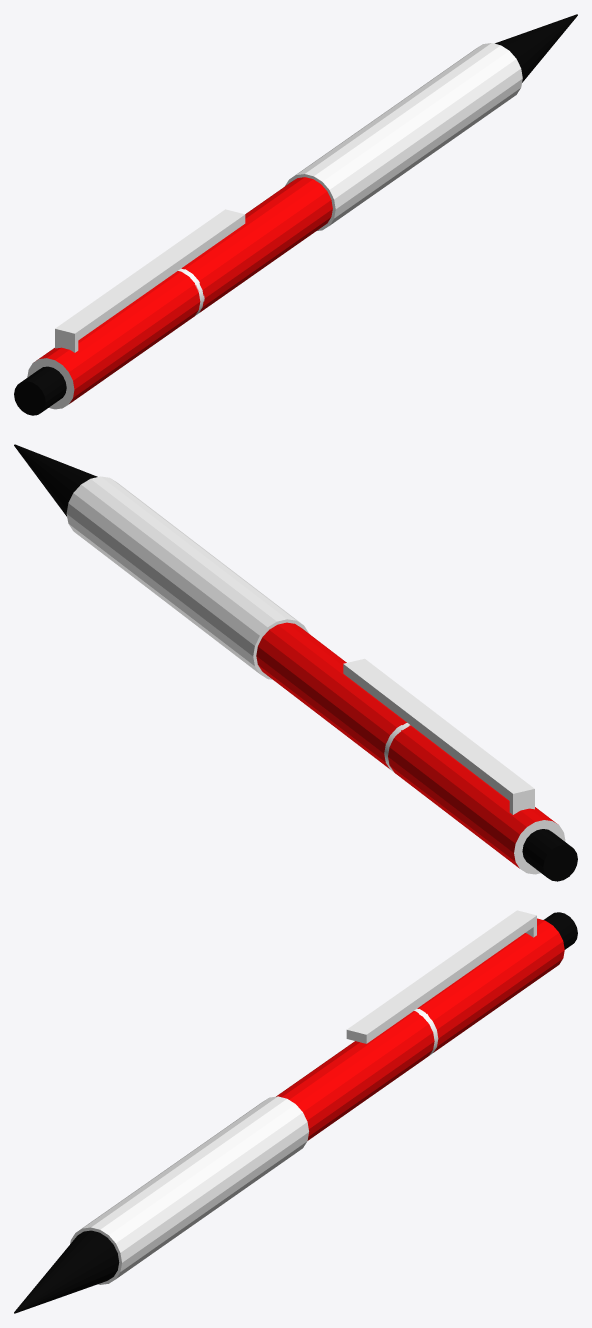
Rendered from cef882a8-9e5c-48d4-ae7f-957910e63c54.glb.
The picture shows the model from 3 angles, top to bottom: view 1: azimuth 90°, elevation 25°; view 2: azimuth 150°, elevation 25°; view 3: azimuth 270°, elevation 25°; orthographic projection. The views are drawn at different scales.
Visible parts, largest first — view 1: Cylinder002, Box002; view 2: Cylinder002, Box002; view 3: Cylinder002, Box002.
Part boxes in pixels (left/top/right/bottom): Cylinder002: left=14, top=14, right=577, bottom=415; Box002: left=55, top=209, right=245, bottom=352; Cylinder002: left=14, top=444, right=577, bottom=881; Box002: left=343, top=658, right=534, bottom=814; Cylinder002: left=14, top=912, right=577, bottom=1313; Box002: left=346, top=910, right=536, bottom=1043.
Size of the model in its own units: 56999 by 4764 by 35047.
